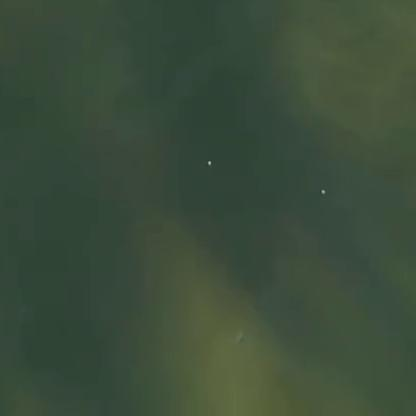golfball: (204, 157, 211, 164)
